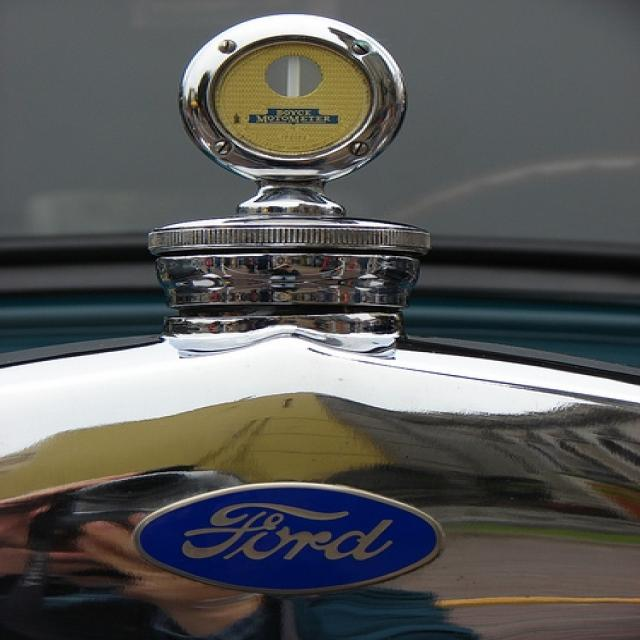ford: (121, 477, 452, 604)
